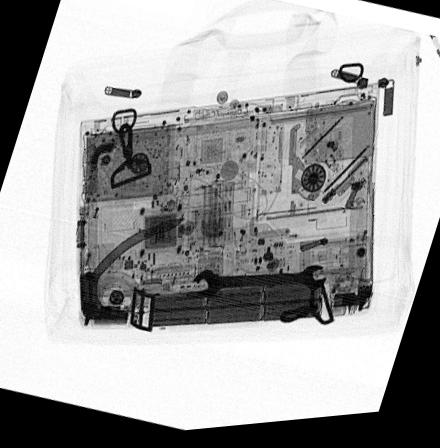Wrench: (191, 269, 328, 302)
